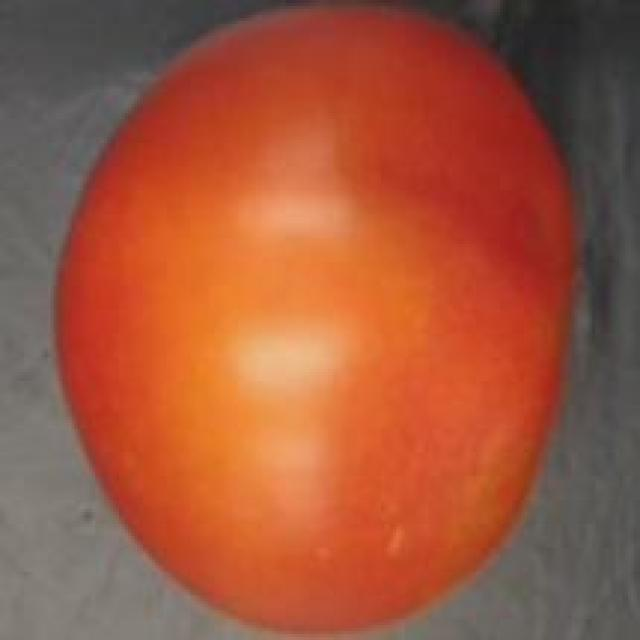overripe tomato: (44, 6, 584, 640)
